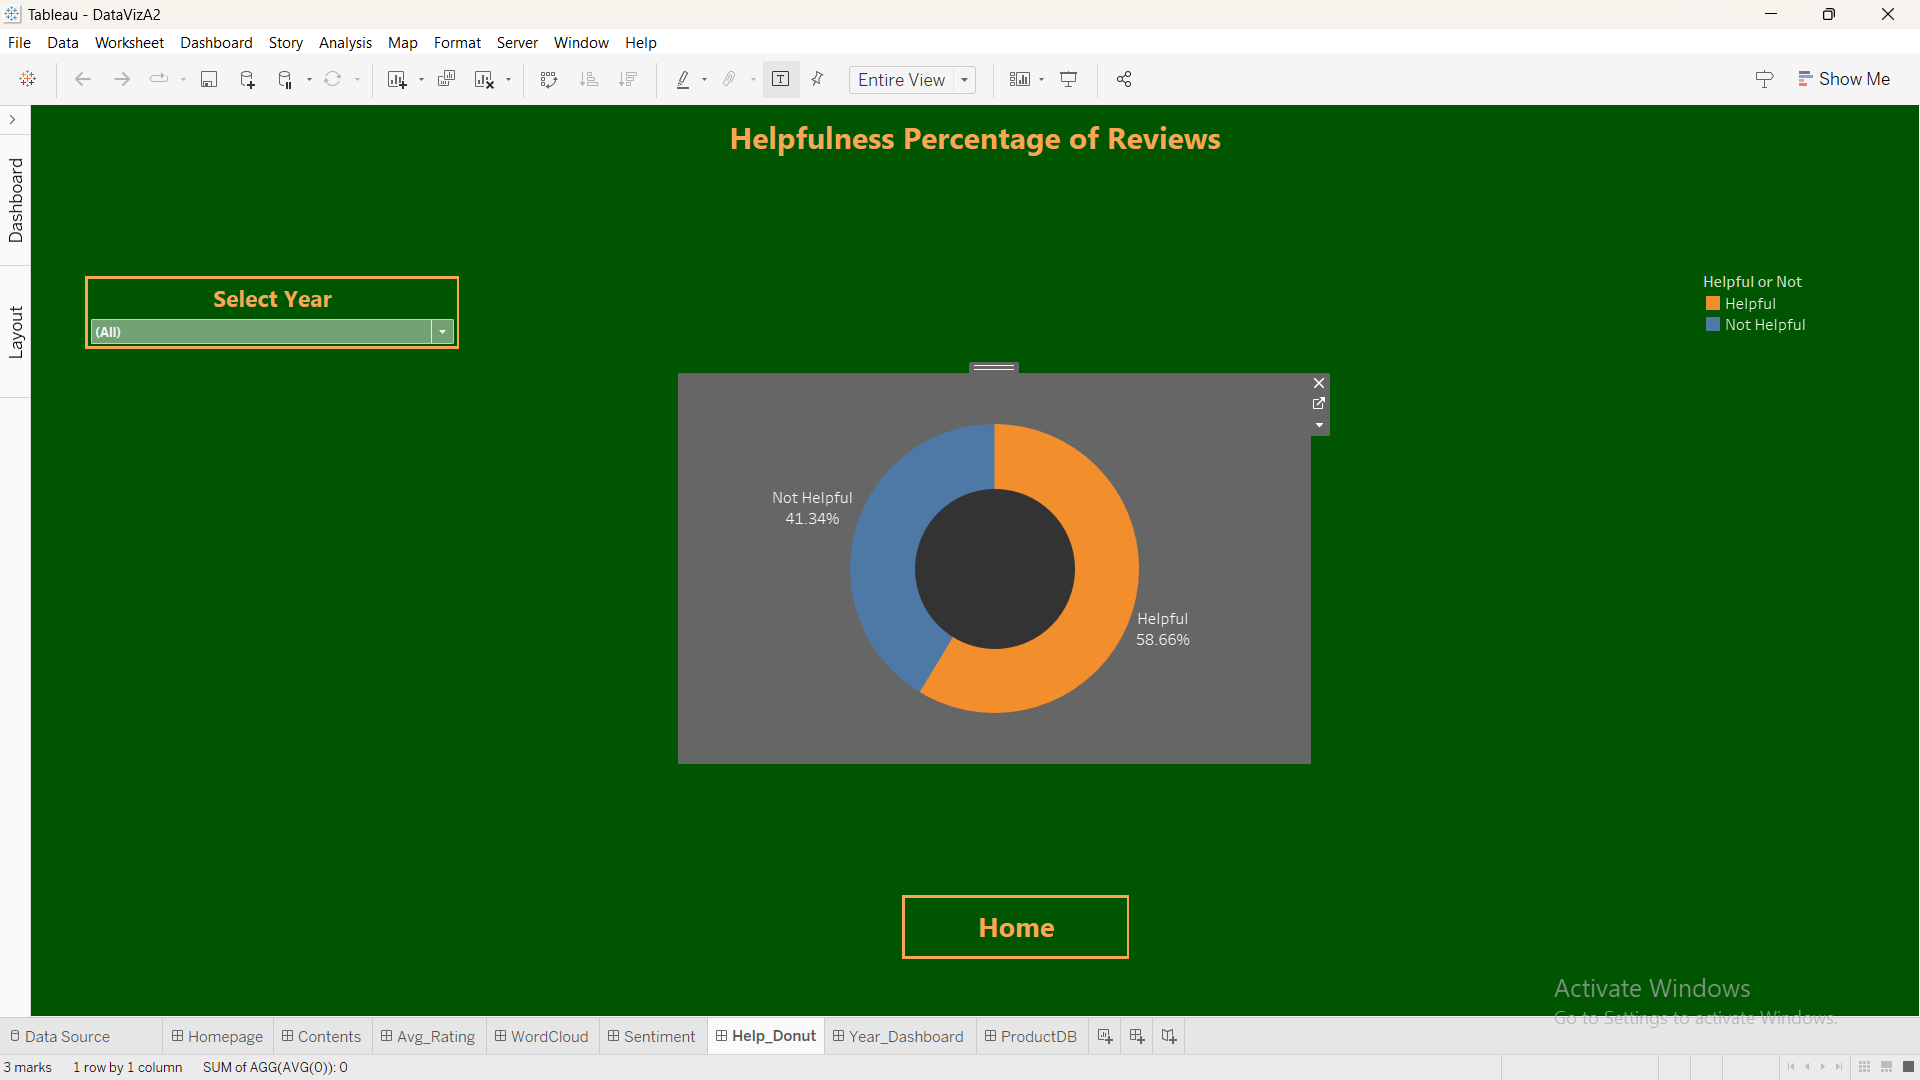

This screenshot's page, from the dashboard's own definition file:
{"tool":"tableau","page":{"name":"Help_Donut","canvas":[1000,1000],"units":"permille","ordinal":2},"visuals":[{"type":"title","box":[4.8,8.8,990.3,52.7]},{"type":"legend","title":"H_Donut","param":"[federated.09iz2eo0hwfu0c10gvcd10xp0wsc].[none:Calculation_3184889362988507149:n","box":[885.3,182.1,84.5,73.3]},{"type":"filter","title":"H_Donut","param":"[federated.1rml1ya152oxk311he94c0te2ujb].[yr:reviewTime:ok]","box":[28.4,187.9,198.6,80.2]},{"type":"worksheet","title":"H_Donut","mark":"Automatic","rows":["Calculation_2162572248131313667","Calculation_2162572248131338245"],"box":[344,296.7,333.1,425]},{"type":"dashboard-object","box":[461.1,867.1,120.7,69.9]}]}

Visuals, with their boxes on the dashboard's canvas, which has no fixed pixel size, in thousandths of its width and height (x1, y1, x2, y2). These are canvas units, not pixel positions in the 1920x1080 screenshot, which may show the page scaled, cropped or inside an application window:
title: rect(5, 9, 995, 62)
"H_Donut" legend: rect(885, 182, 970, 255)
"H_Donut" filter: rect(28, 188, 227, 268)
"H_Donut" worksheet: rect(344, 297, 677, 722)
dashboard-object: rect(461, 867, 582, 937)
